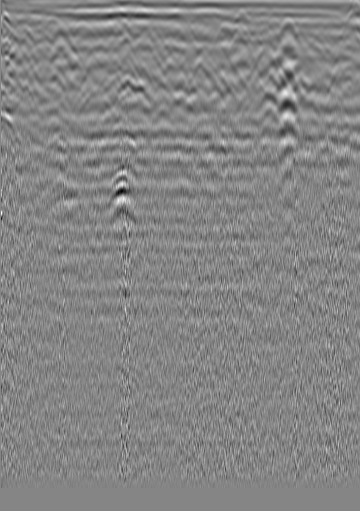가스: (103, 180, 138, 212)
상수: (13, 16, 33, 36)
오수: (302, 23, 322, 43)
우수: (162, 15, 182, 35)
